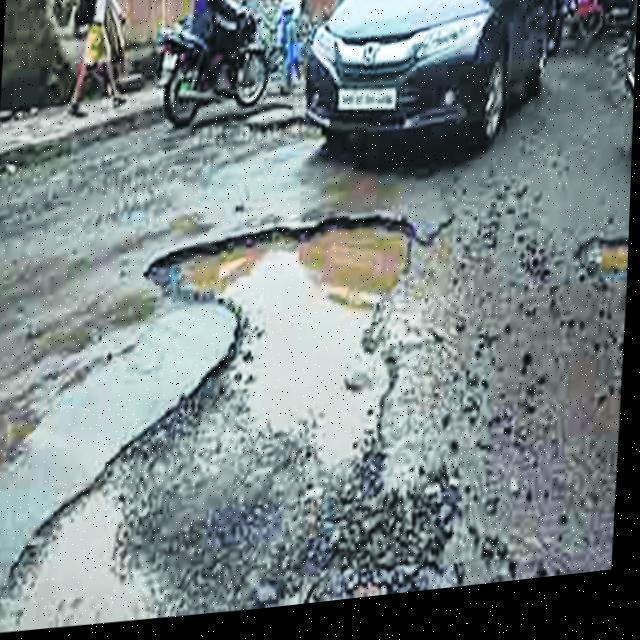Pothole: (0, 210, 473, 631), (572, 235, 628, 283)
